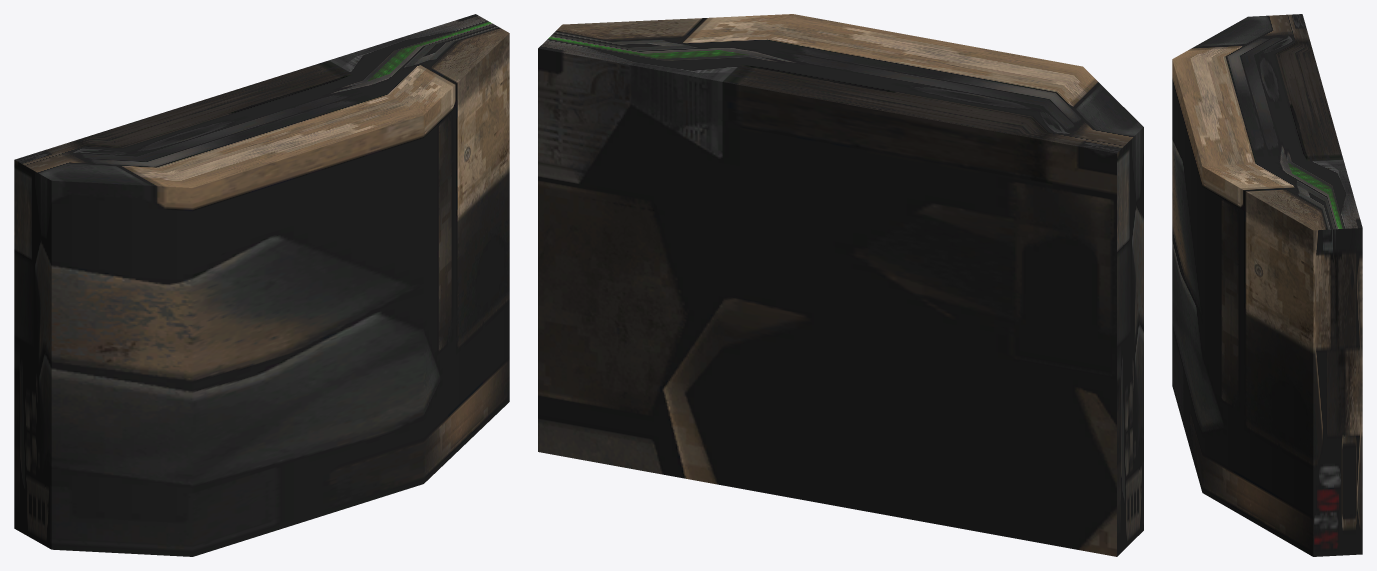
File: veh_t6_drone_rcxd_LOD3.obj
The picture shows the model from 3 angles, left to right: view 1: azimuth 30°, elevation 25°; view 2: azimuth 150°, elevation 25°; view 3: azimuth 270°, elevation 25°; orthographic projection. The views are drawn at different scales.
Parts seen in each view (by area): view 1: mtl_veh_t6_rcxd; view 2: mtl_veh_t6_rcxd; view 3: mtl_veh_t6_rcxd.
Part boxes in pixels (box(x1,y1,x2,y2)): mtl_veh_t6_rcxd: box(14, 14, 509, 556); mtl_veh_t6_rcxd: box(538, 14, 1143, 556); mtl_veh_t6_rcxd: box(1172, 14, 1362, 556).
Bounding box in the file's own units: 80.66 × 56.76 × 29.99.
